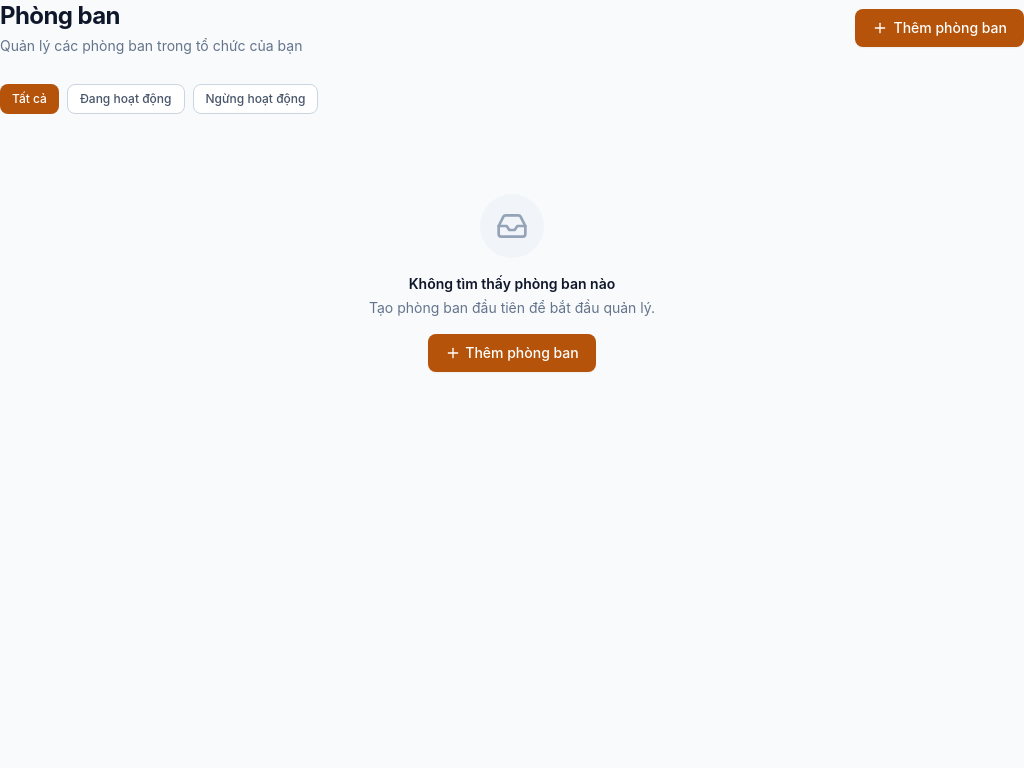
Test: DepartmentsPage › opens create modal when clicking new department
This screenshot has width=1024, height=768.
Click the 1st button "Thêm phòng ban". click: coordinates (939, 28)
box: [854,9,1023,47]
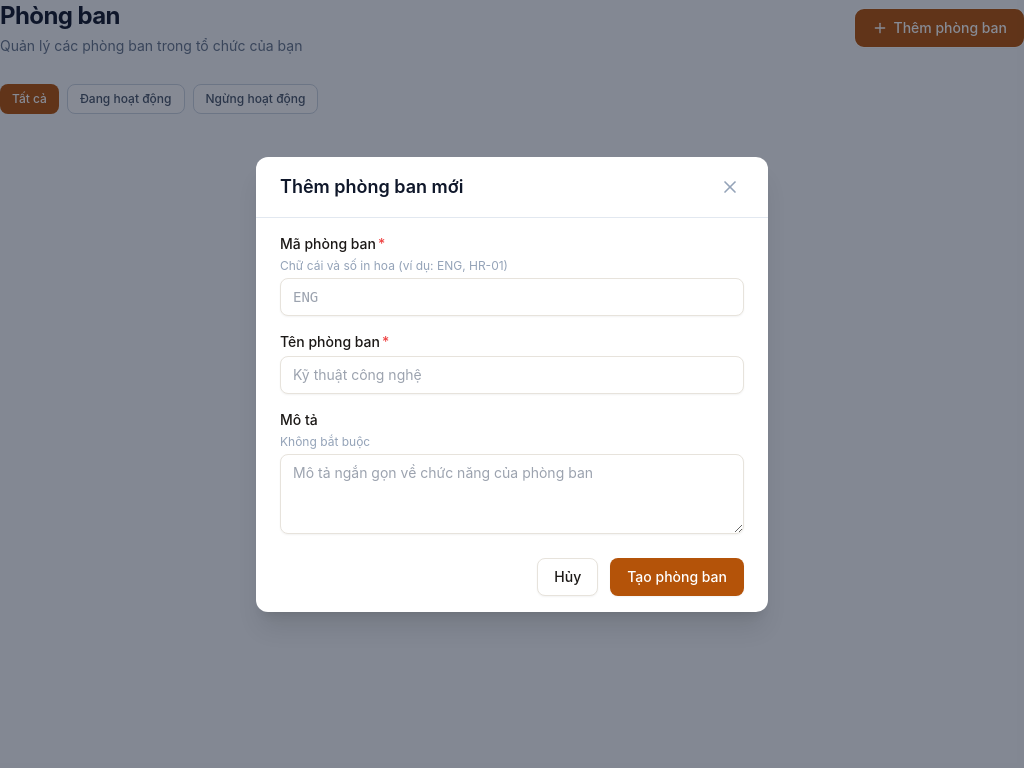
Result: the heading "Thêm phòng ban mới" is shown at [280,172,464,200]
Result: the field with placeholder "ENG" is shown at [280,278,744,316]
Result: the field with placeholder "Kỹ thuật công nghệ" is shown at [280,356,744,394]
